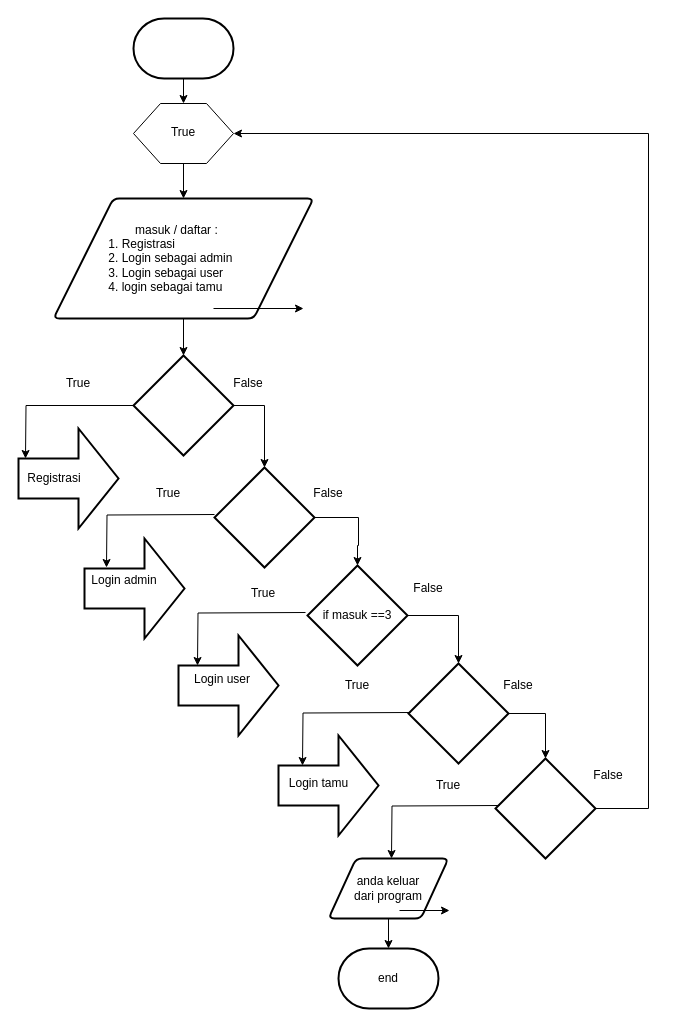
This 674x1026 diagram has some shape labels left out. Each missing label, with the centre of its shape:
"if masuk ==1" belongs at [183,405].
"if masuk ==2" belongs at [264,517].
"if masuk ==4" belongs at [458,713].
"if masuk ==5" belongs at [545,808].
"start" belongs at [183,48].
